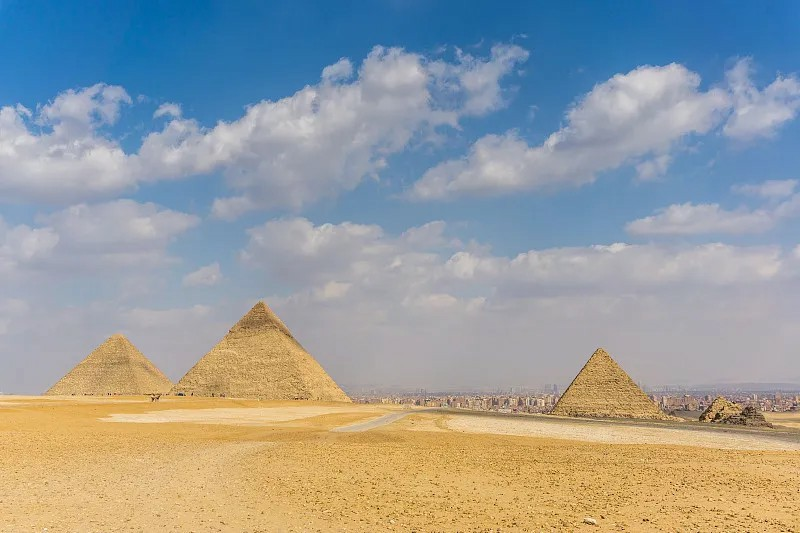Pyramid: (167, 303, 352, 400), (544, 347, 672, 420), (43, 334, 173, 397)
